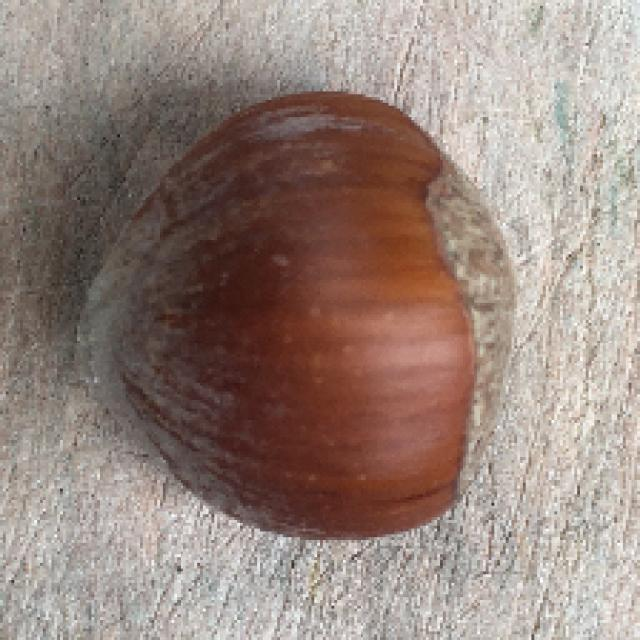qualityHazelnut: (75, 88, 518, 545)
